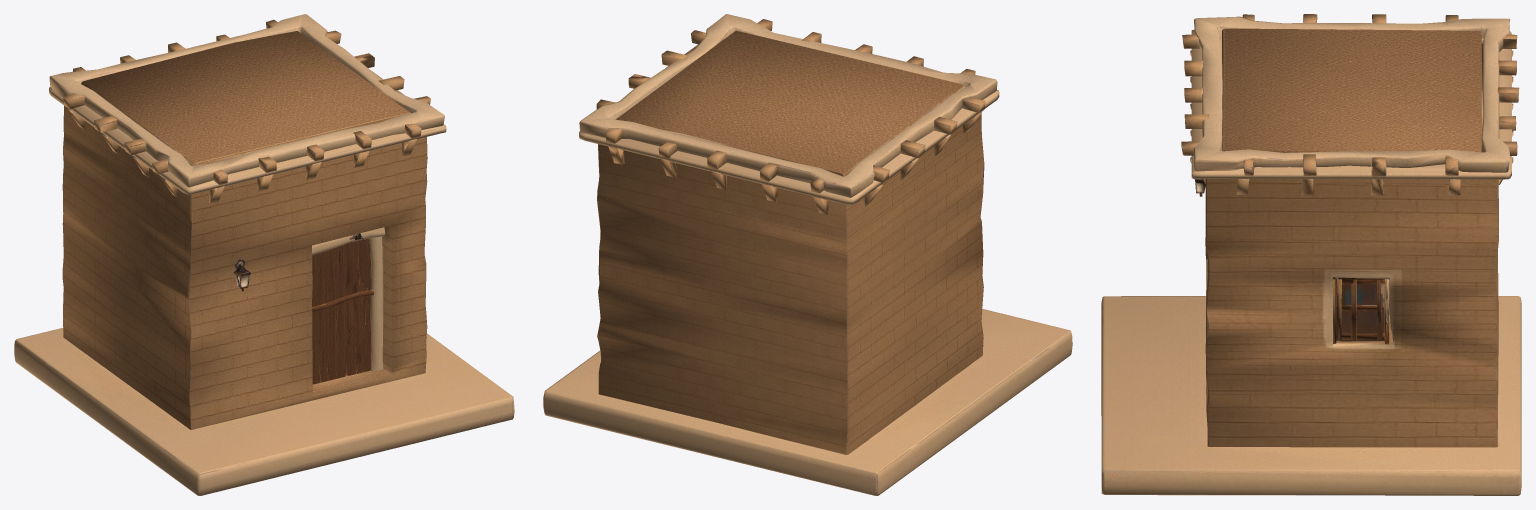
Rendered from house-2.glb.
3 renders of one model, left to right at view 1: azimuth 30°, elevation 25°; view 2: azimuth 150°, elevation 25°; view 3: azimuth 270°, elevation 25°, orthographic. The views are drawn at different scales.
Bounding box in the file's own units: 0.9512 × 0.8096 × 0.959.
1 material, 1 textured.
